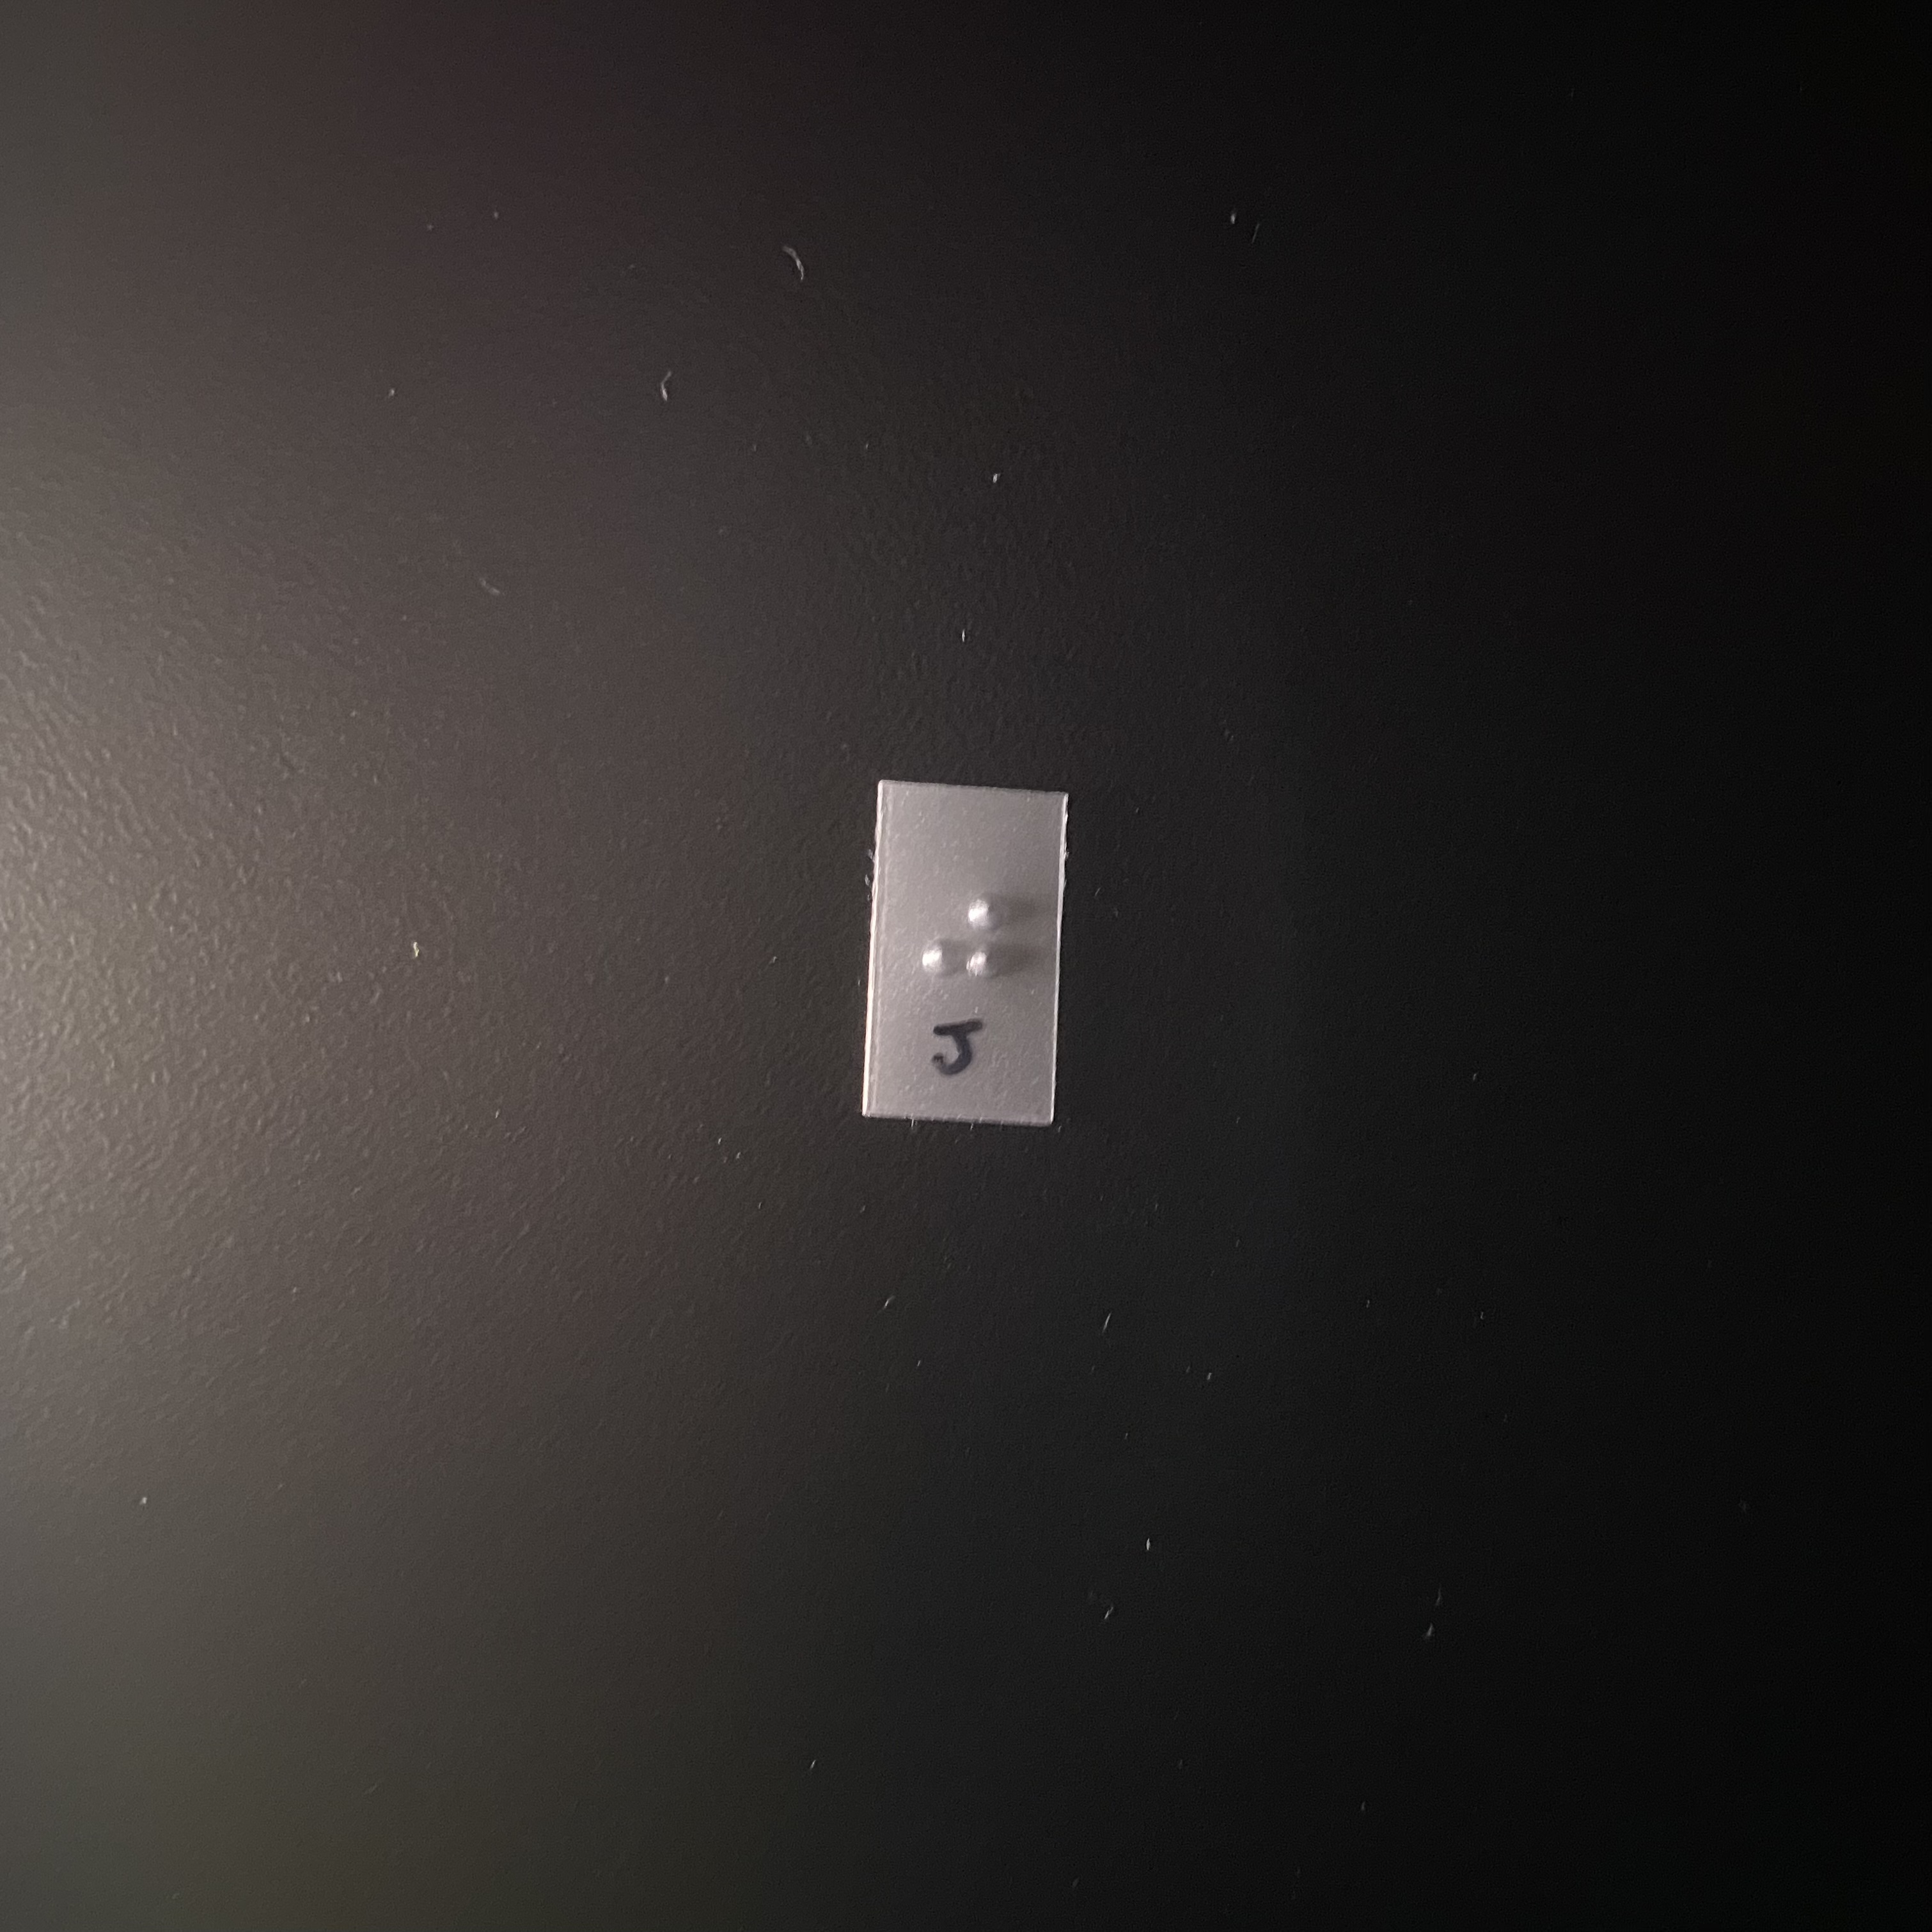j: (913, 879, 1030, 1039)
